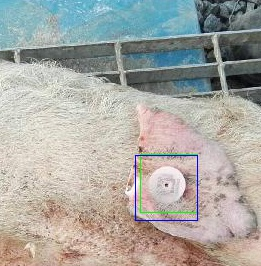text: (140, 154, 197, 212)
